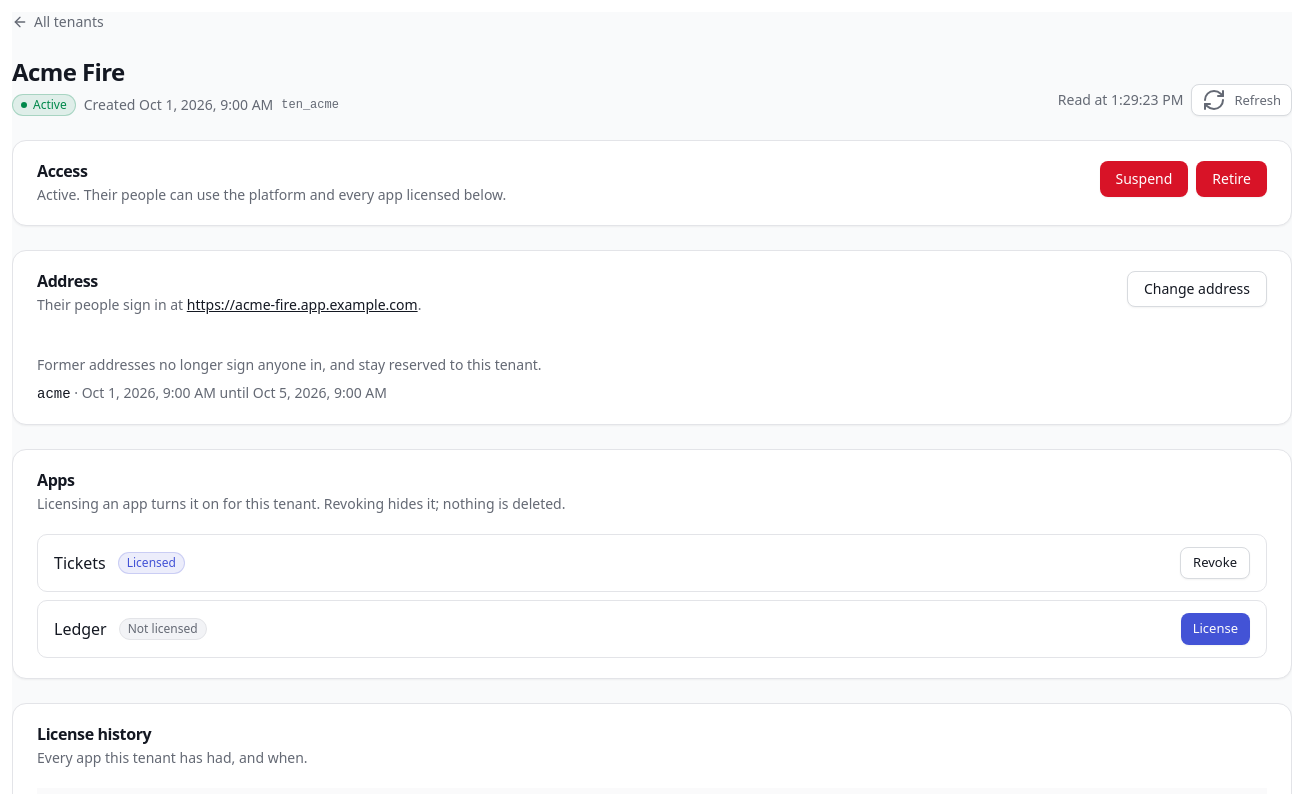
Test case: licensing › names a refusal it has no words for by its code
Click the button with aria-label "License Ledger" at (1215, 629), box [1181,613,1250,645]
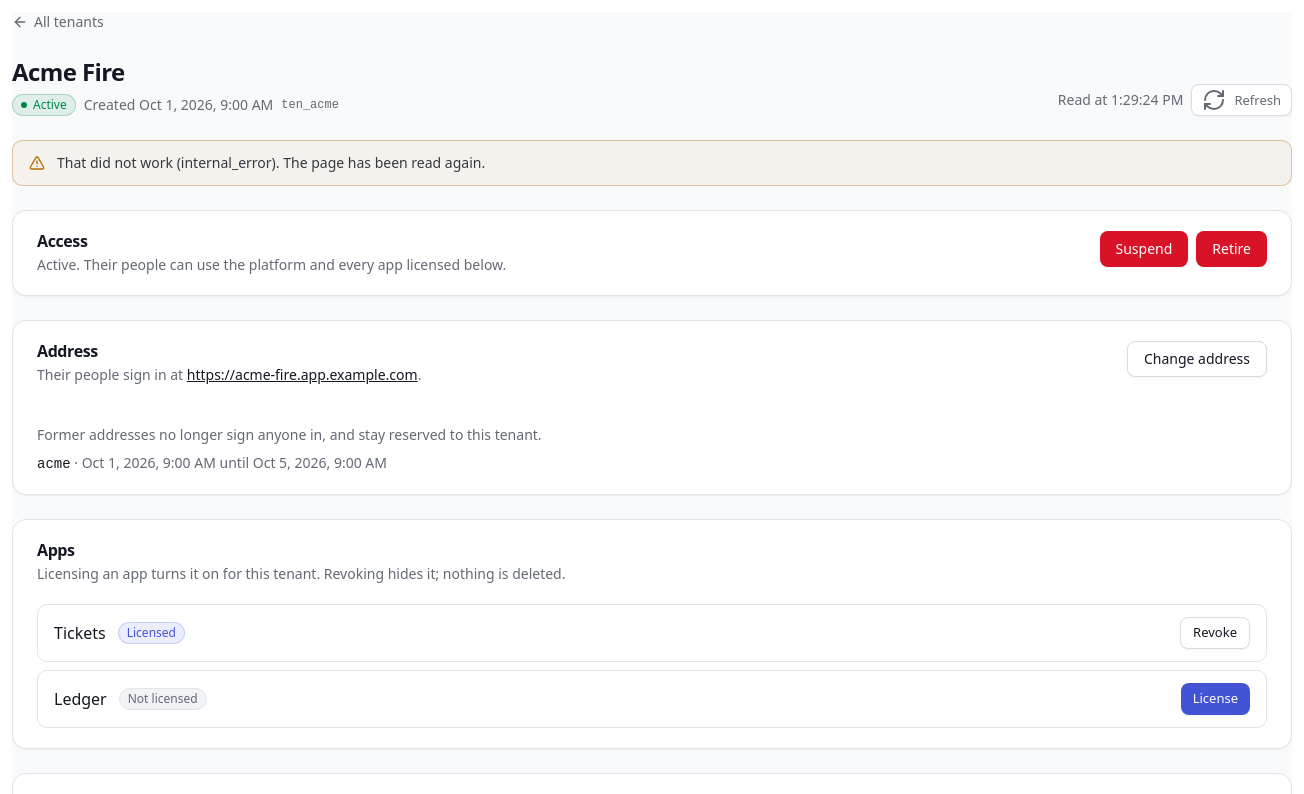
expect the text "That did not work (internal_error)" is shown: met, box [57,153,485,172]
